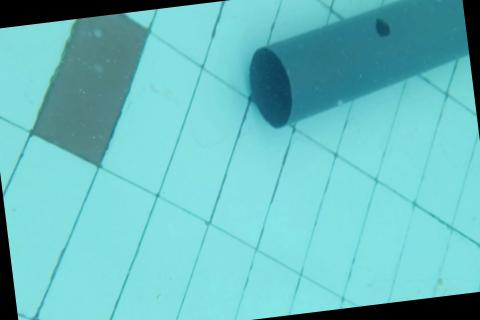kebocoran: (372, 14, 392, 40)
